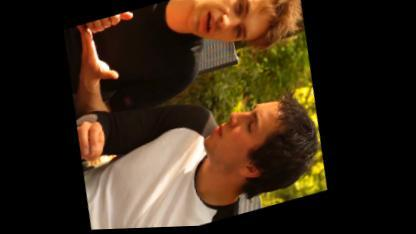knife: (99, 2, 170, 32)
